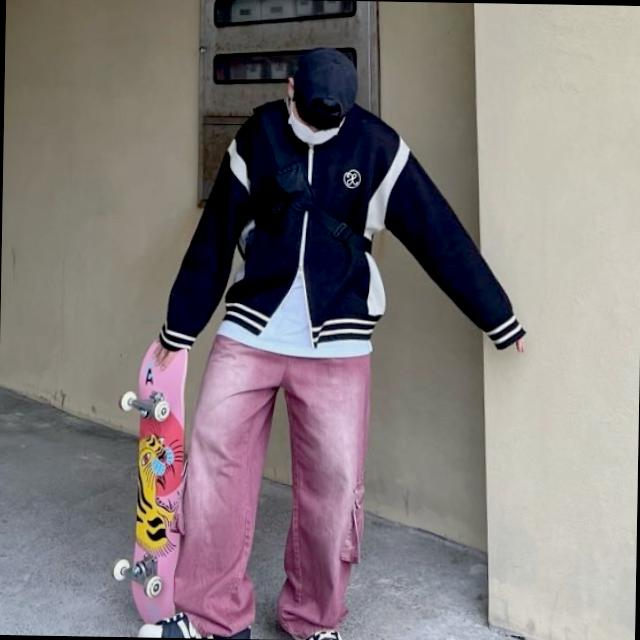cottonpants: (173, 324, 370, 640)
jacket: (157, 93, 532, 360)
